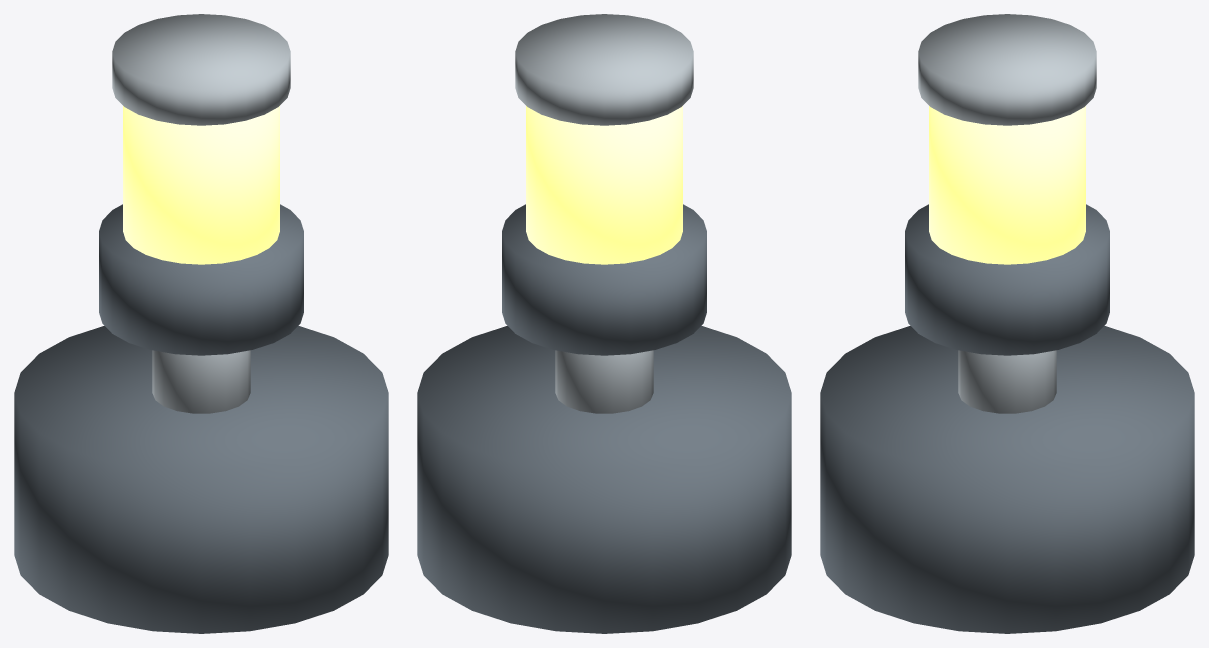
File: warning_beacon_enhanced.glb
3 renders of one model, left to right at view 1: azimuth 30°, elevation 25°; view 2: azimuth 150°, elevation 25°; view 3: azimuth 270°, elevation 25°, orthographic.
Parts seen in each view (by area): view 1: Base_dark, StatusLight_warn, Beacon_dark, Beacon_steel, Pole_steel; view 2: Base_dark, StatusLight_warn, Beacon_dark, Beacon_steel, Pole_steel; view 3: Base_dark, StatusLight_warn, Beacon_dark, Beacon_steel, Pole_steel.
Boxes of the visible parts, x1=… form: Base_dark: x1=14, y1=326, x2=388, y2=633; StatusLight_warn: x1=123, y1=106, x2=279, y2=264; Beacon_dark: x1=99, y1=204, x2=303, y2=355; Beacon_steel: x1=112, y1=14, x2=290, y2=125; Pole_steel: x1=152, y1=350, x2=250, y2=413; Base_dark: x1=417, y1=326, x2=791, y2=633; StatusLight_warn: x1=526, y1=106, x2=682, y2=264; Beacon_dark: x1=502, y1=204, x2=706, y2=355; Beacon_steel: x1=515, y1=14, x2=693, y2=125; Pole_steel: x1=555, y1=350, x2=653, y2=413; Base_dark: x1=820, y1=326, x2=1194, y2=633; StatusLight_warn: x1=929, y1=106, x2=1085, y2=264; Beacon_dark: x1=905, y1=204, x2=1109, y2=355; Beacon_steel: x1=918, y1=14, x2=1096, y2=125; Pole_steel: x1=958, y1=350, x2=1056, y2=413.
Size of the model in its own units: 0.42 by 0.6225 by 0.42.
